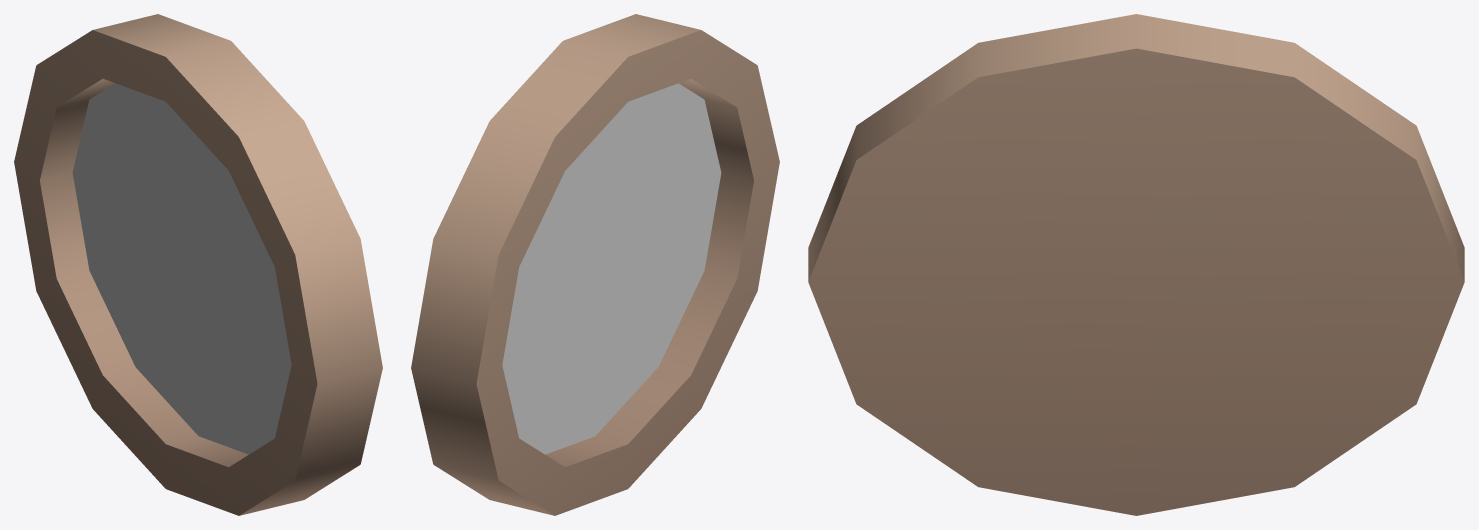
File: art-frame-thin-oval-landscape (%wall).glb
3 views of the same model, side by side, from view 1: azimuth 30°, elevation 25°; view 2: azimuth 150°, elevation 25°; view 3: azimuth 270°, elevation 25° (orthographic). The views are drawn at different scales.
Parts seen in each view (by area): view 1: art-frame-thin-oval-landscape (%wall); view 2: art-frame-thin-oval-landscape (%wall); view 3: art-frame-thin-oval-landscape (%wall).
Part boxes in pixels (<box>): art-frame-thin-oval-landscape (%wall): <box>14,14,382,515</box>; art-frame-thin-oval-landscape (%wall): <box>411,14,779,515</box>; art-frame-thin-oval-landscape (%wall): <box>808,14,1464,515</box>.
Bounding box in the file's own units: 0.075 × 0.4734 × 0.6024.
